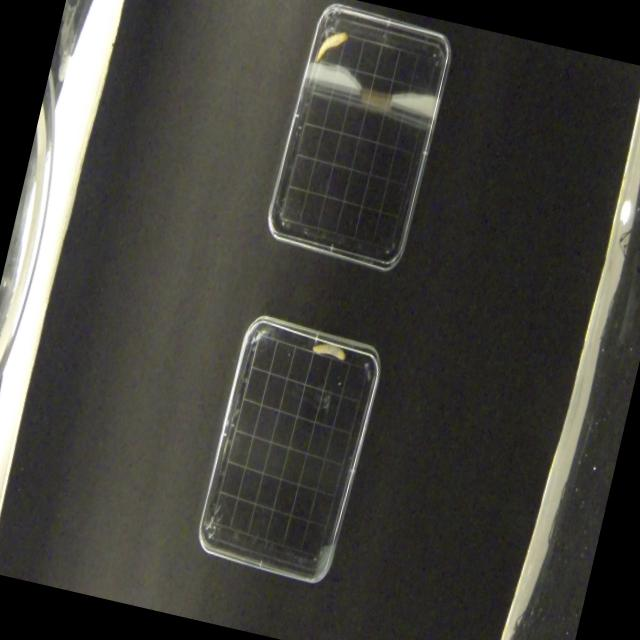larva: (314, 26, 348, 70), (313, 340, 347, 360)
